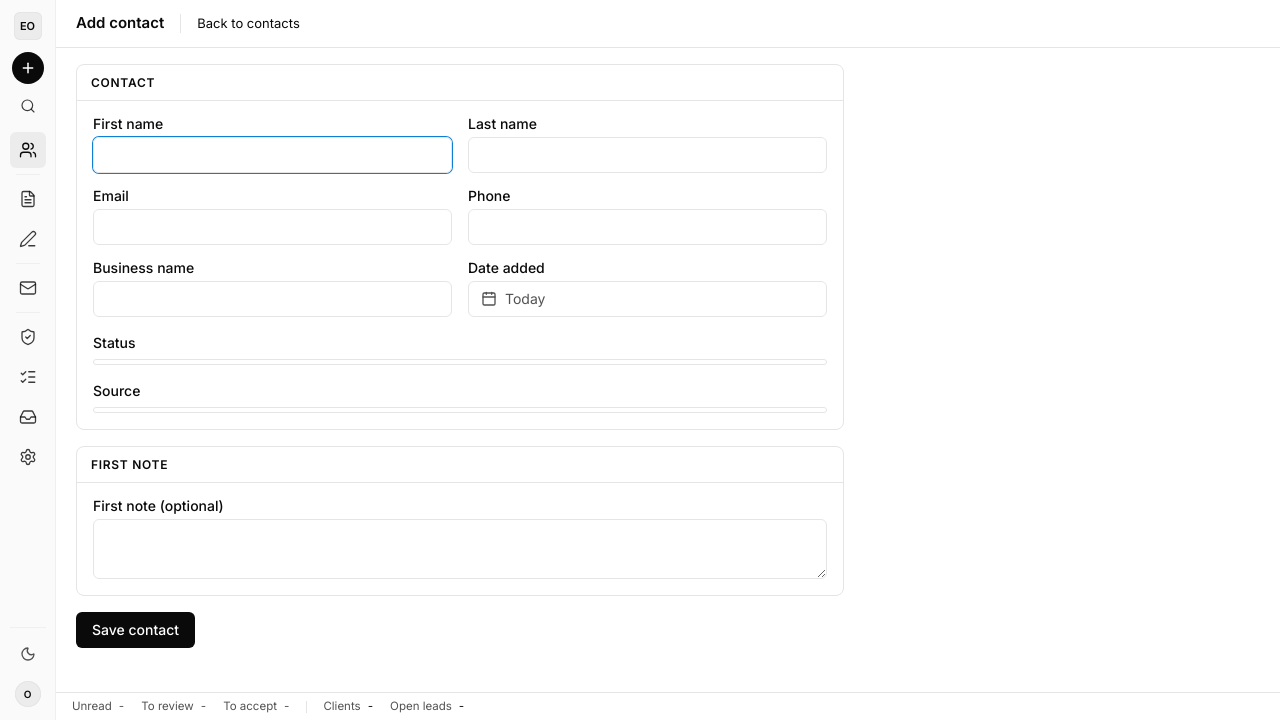
Test case: intake › still opens the record when the quotes fail after the contact saved, and says so
Step 1. Type "Fay" into the field labelled "First name" → [272, 155], box [93,137,452,173]
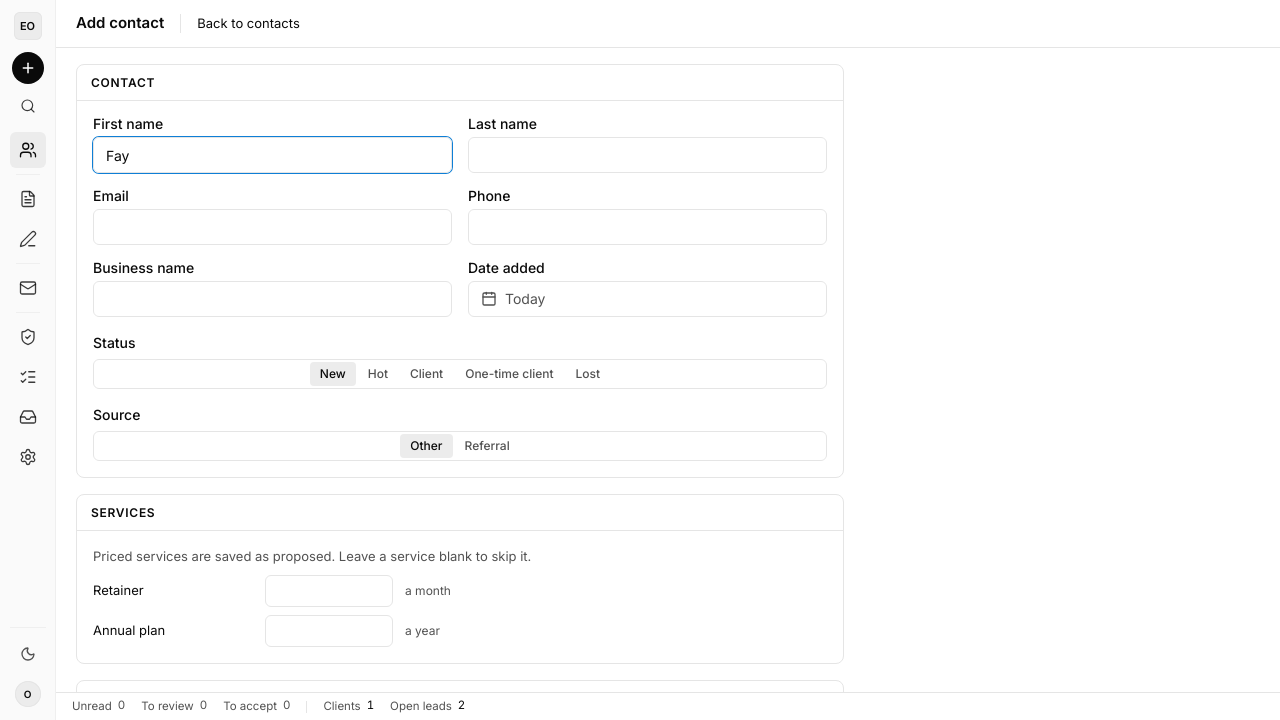
Step 2. Type "900" into the field labelled "Annual plan" → [329, 630], box [265,614,393,646]
(page scrolled)
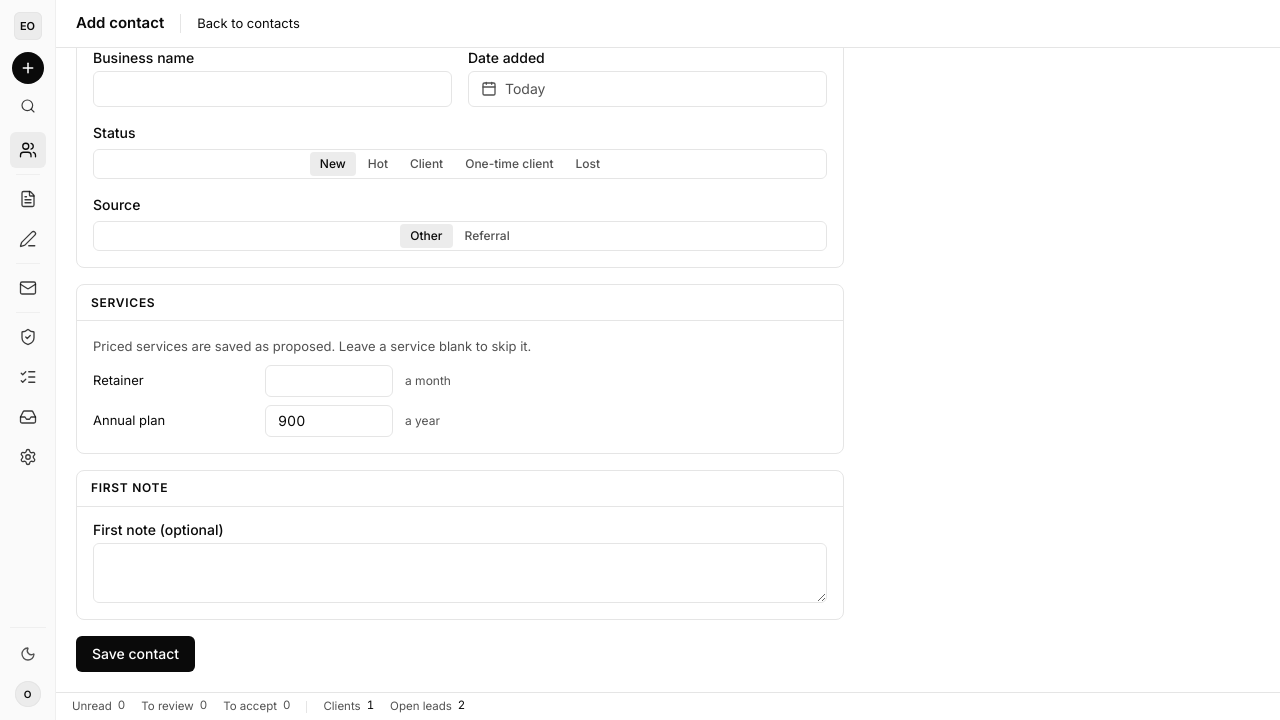
Step 3. Click the button "Save contact" → [136, 654], box [76,636,195,672]
(page scrolled)
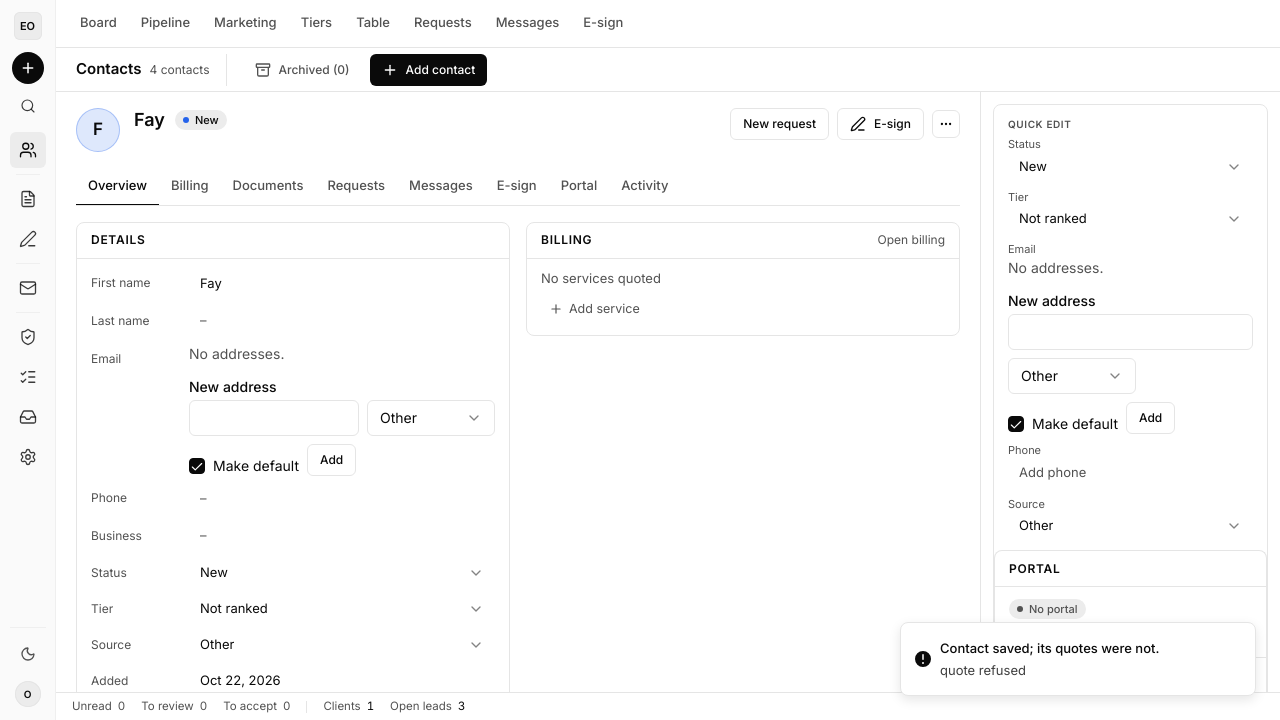
Expected: the text "Contact saved; its quotes were not." is shown, [940,639,1159,659]
Expected: the heading "Fay" is shown, [134,108,165,132]
